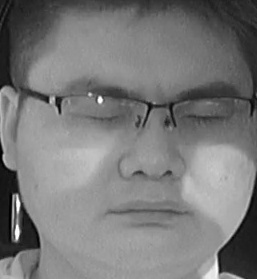blink: (189, 109, 225, 127), (78, 111, 118, 124)
glass: (57, 91, 151, 143), (171, 95, 253, 146)
mouth: (105, 198, 186, 229)
